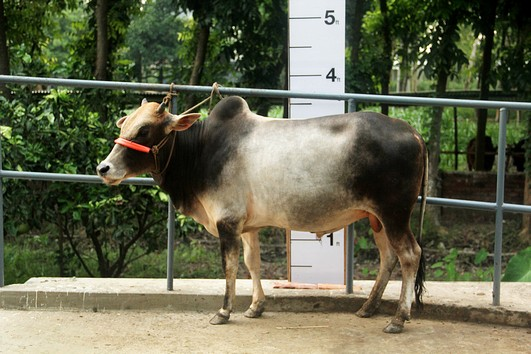cow: (89, 83, 437, 337)
